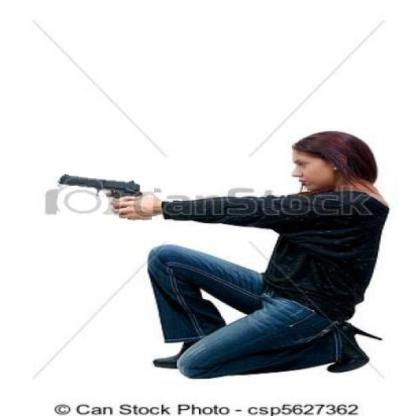handgun: (57, 170, 154, 225)
